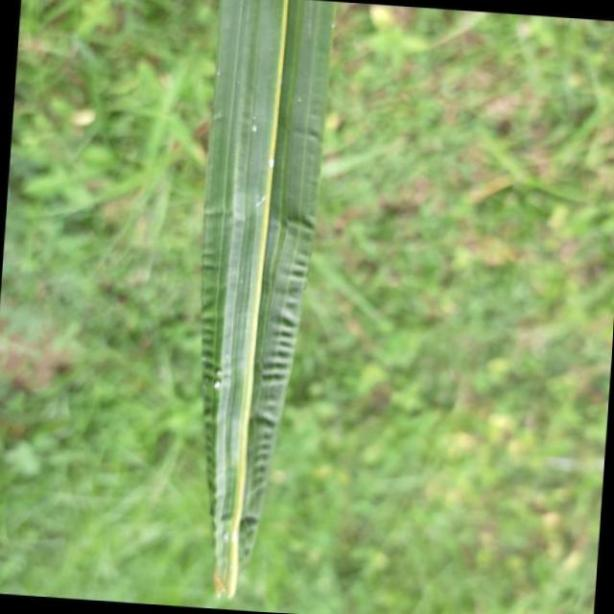Boron: (204, 0, 335, 604)
